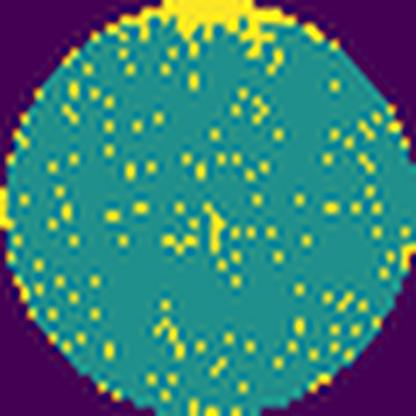Edge-Loc: (117, 0, 295, 44)
